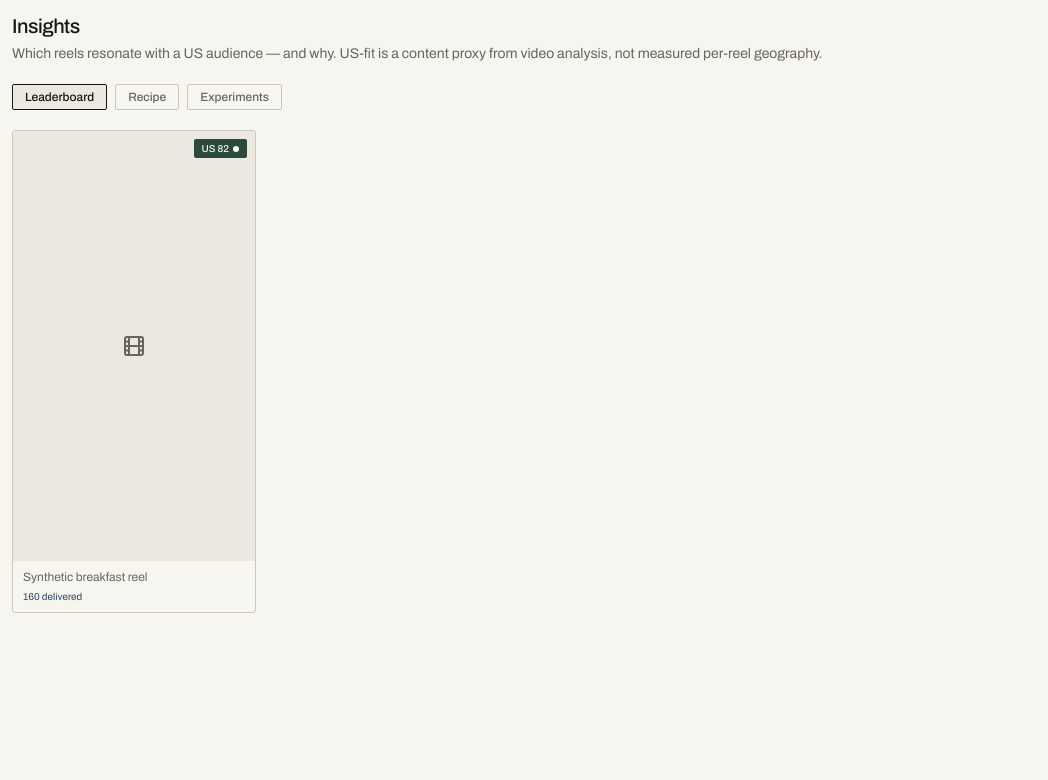
Test: Insights reporting removal › keeps Recipe and commenter-origin evidence without reach statistics
The width and height of the screenshot is (1048, 780).
What coordinates should you click on to do the following:
click the button "Recipe"
I would click on:
 (147, 97)
Its box is x1=115 y1=84 x2=179 y2=110.
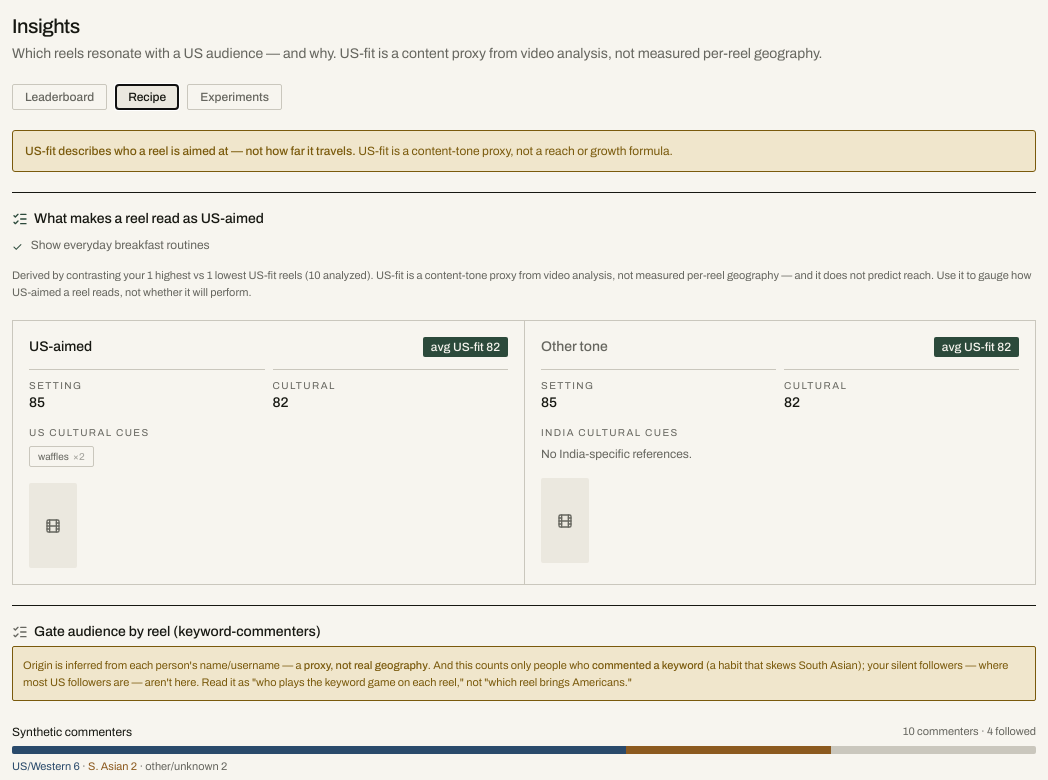
Result: the text "Show everyday breakfast routines" is shown at x1=31 y1=237 x2=210 y2=255
Result: the text "Synthetic commenters" is shown at x1=12 y1=724 x2=132 y2=740
Result: the text "proxy, not real geography" is shown at x1=304 y1=659 x2=428 y2=671
